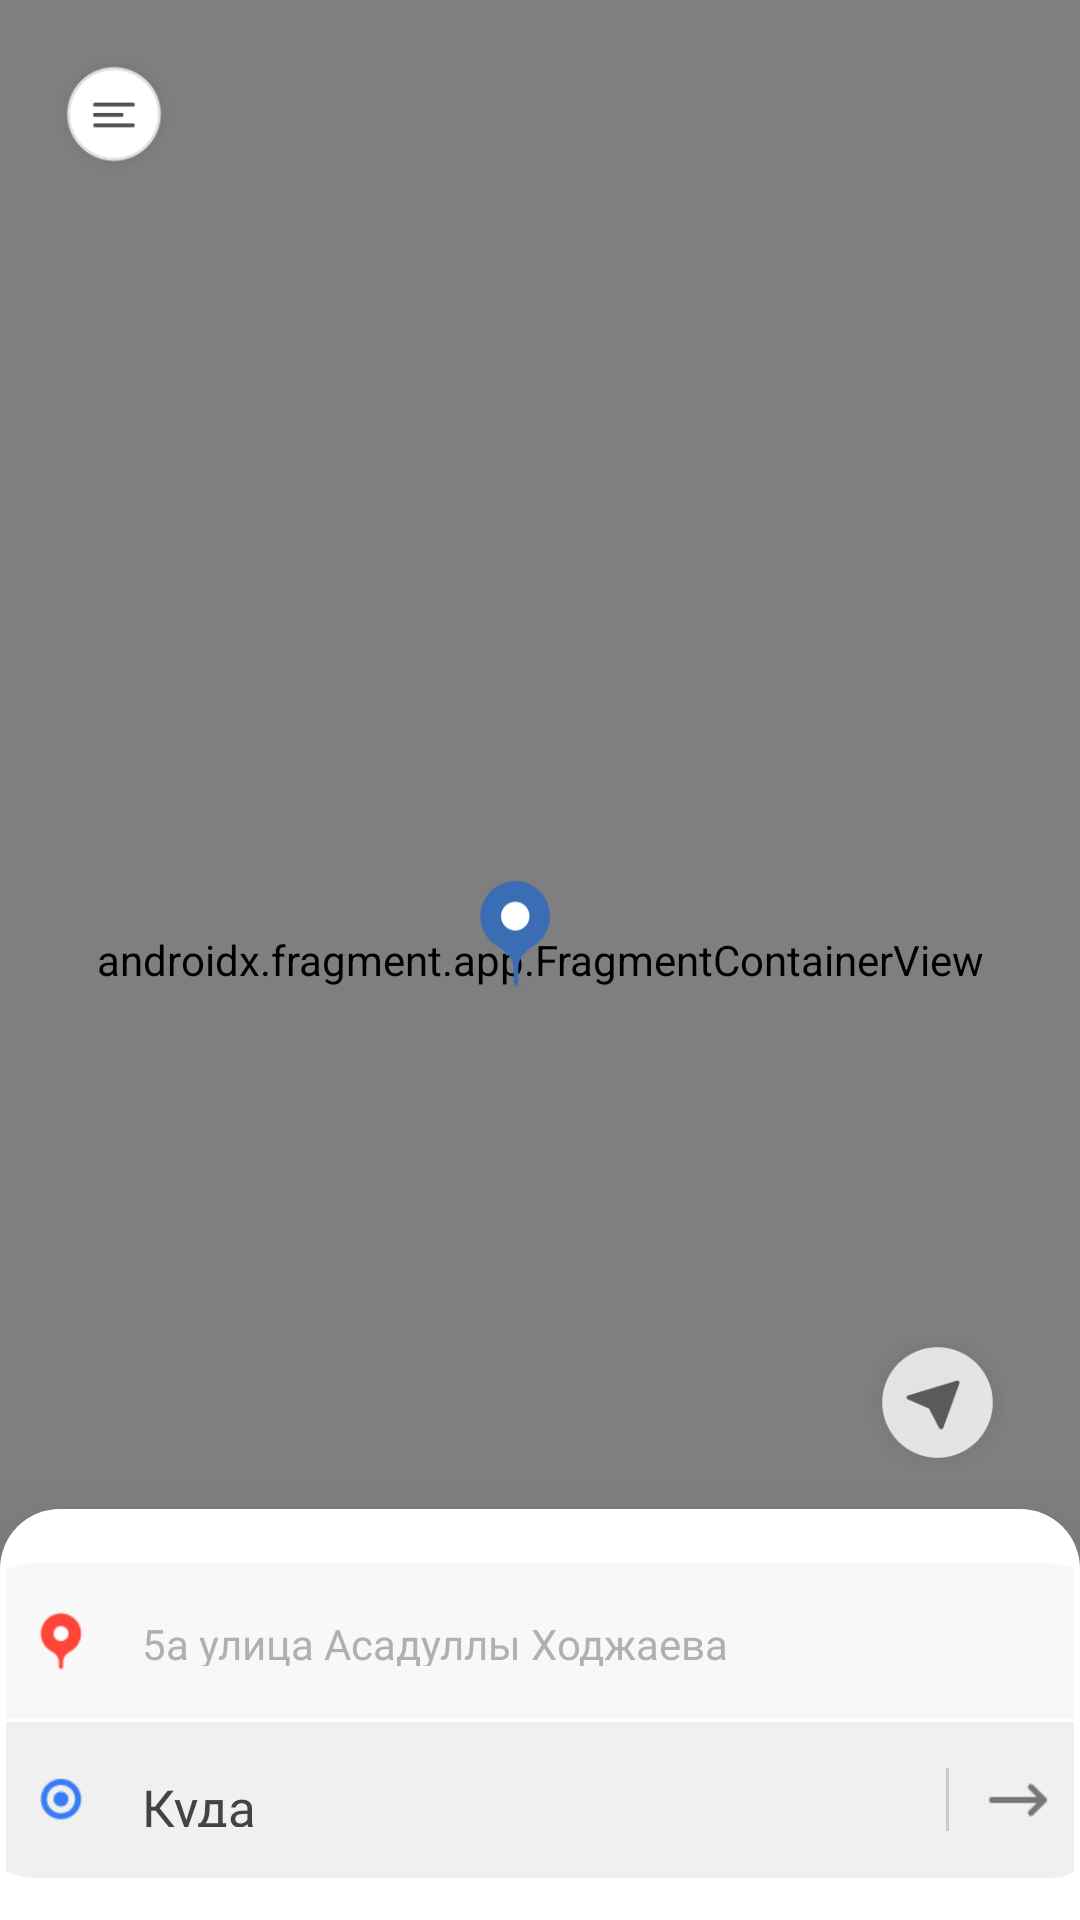

Icons on this 1080px×1920px Android screen, each with its box as detection(x1, y1, x2, y2):
currentlocic: detection(882, 1347, 993, 1458)
next: detection(988, 1783, 1048, 1817)
